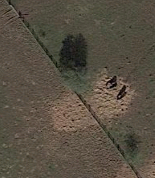tree: (111, 136, 152, 177), (56, 60, 96, 101)
